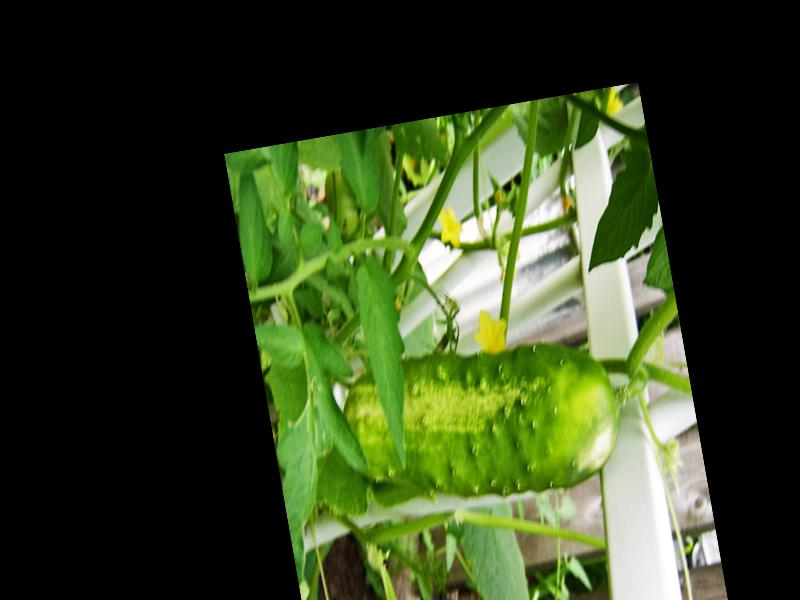Cucumber: (340, 330, 629, 520)
